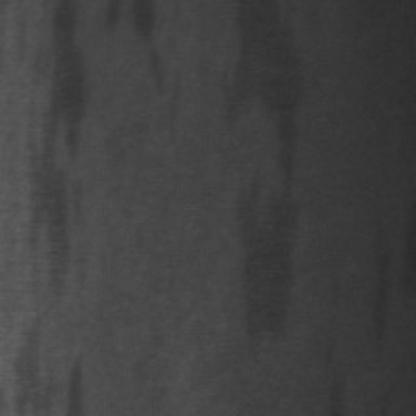inclusion: (216, 2, 296, 345), (25, 5, 79, 294), (358, 216, 399, 362), (122, 0, 171, 94), (56, 349, 90, 414)
